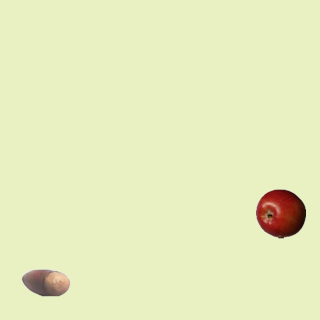Apple Braeburn: (255, 188, 305, 238)
Hazelnut: (20, 257, 70, 307)
